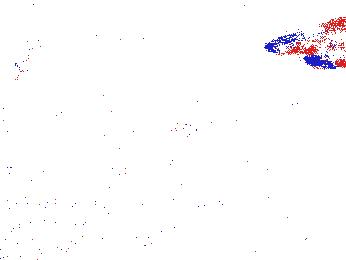red belly glassfish: (169, 119, 200, 137)
redtail glassfish: (265, 22, 346, 54), (13, 35, 41, 81), (305, 52, 346, 70)
